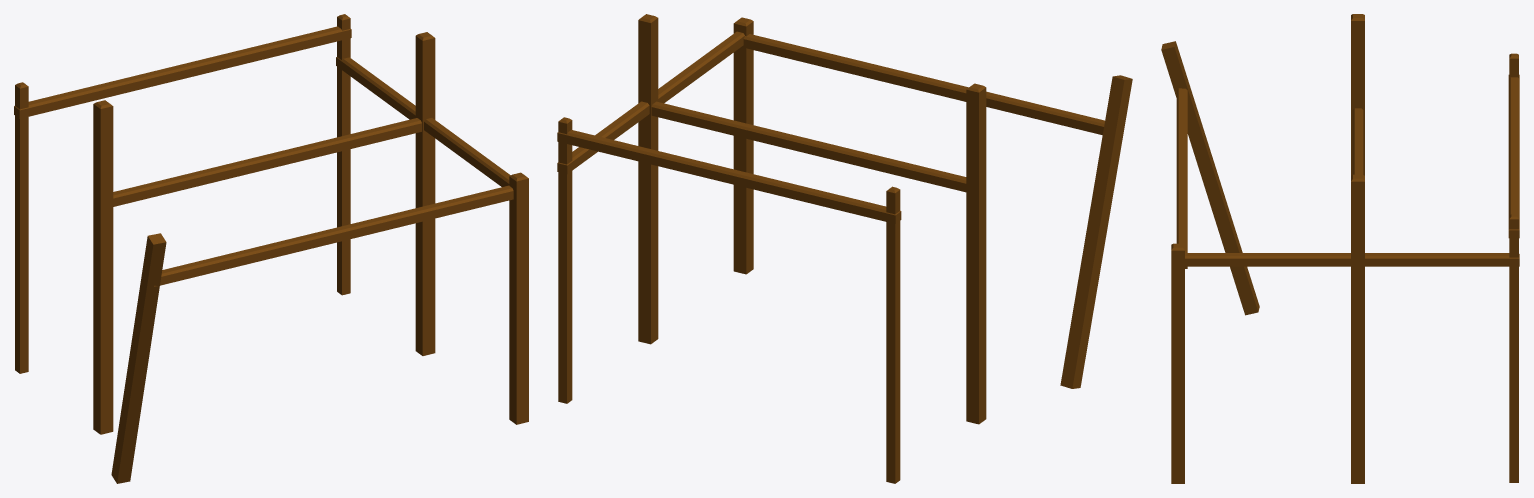
The model's file is SM_Stall_Frame_01.fbx.
3 views of the same model, side by side, from view 1: azimuth 30°, elevation 25°; view 2: azimuth 150°, elevation 25°; view 3: azimuth 270°, elevation 25° (orthographic). The views are drawn at different scales.
Visible parts, largest first — view 1: SM_Stall_Frame_01; view 2: SM_Stall_Frame_01; view 3: SM_Stall_Frame_01.
Part boxes in pixels (left/top/right/bottom): SM_Stall_Frame_01: left=14, top=14, right=528, bottom=483; SM_Stall_Frame_01: left=557, top=14, right=1132, bottom=483; SM_Stall_Frame_01: left=1161, top=14, right=1519, bottom=483.
Size of the model in its own units: 3.04 by 2.51 by 2.59.
1 material, 1 textured.
